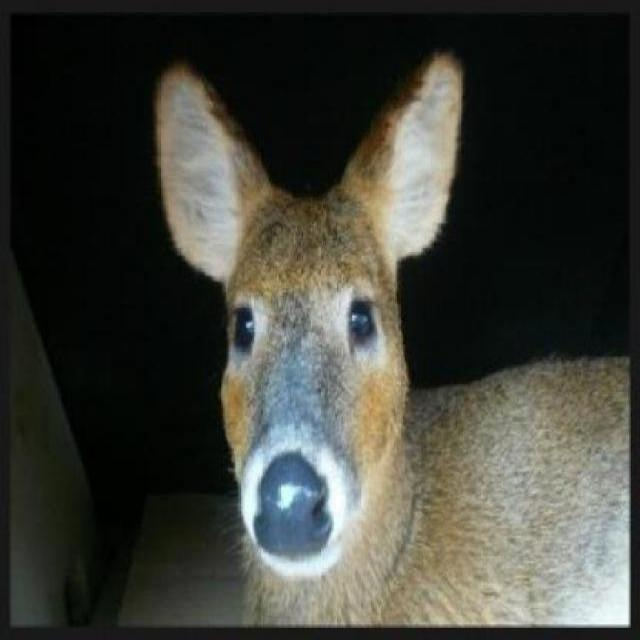deer: (139, 50, 638, 638)
